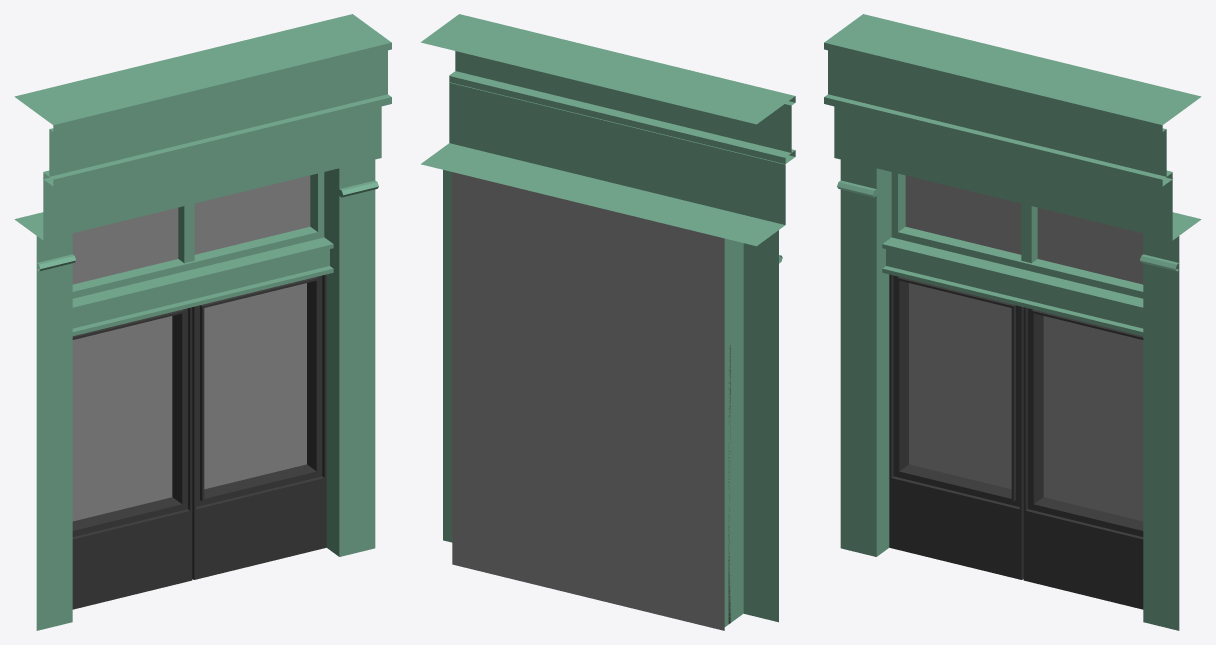
Rendered from object_B3_Ground_floor.glb.
The picture shows the model from 3 angles, left to right: view 1: azimuth 30°, elevation 25°; view 2: azimuth 150°, elevation 25°; view 3: azimuth 330°, elevation 25°; orthographic projection.
Parts seen in each view (by area): view 1: B3 Ground floor; view 2: B3 Ground floor; view 3: B3 Ground floor.
Part boxes in pixels (x1,y1,x2,y2): B3 Ground floor: (14,14,391,630); B3 Ground floor: (420,14,795,630); B3 Ground floor: (824,14,1201,630).
Bounding box in the file's own units: 2.6 × 3.8 × 0.5206.
